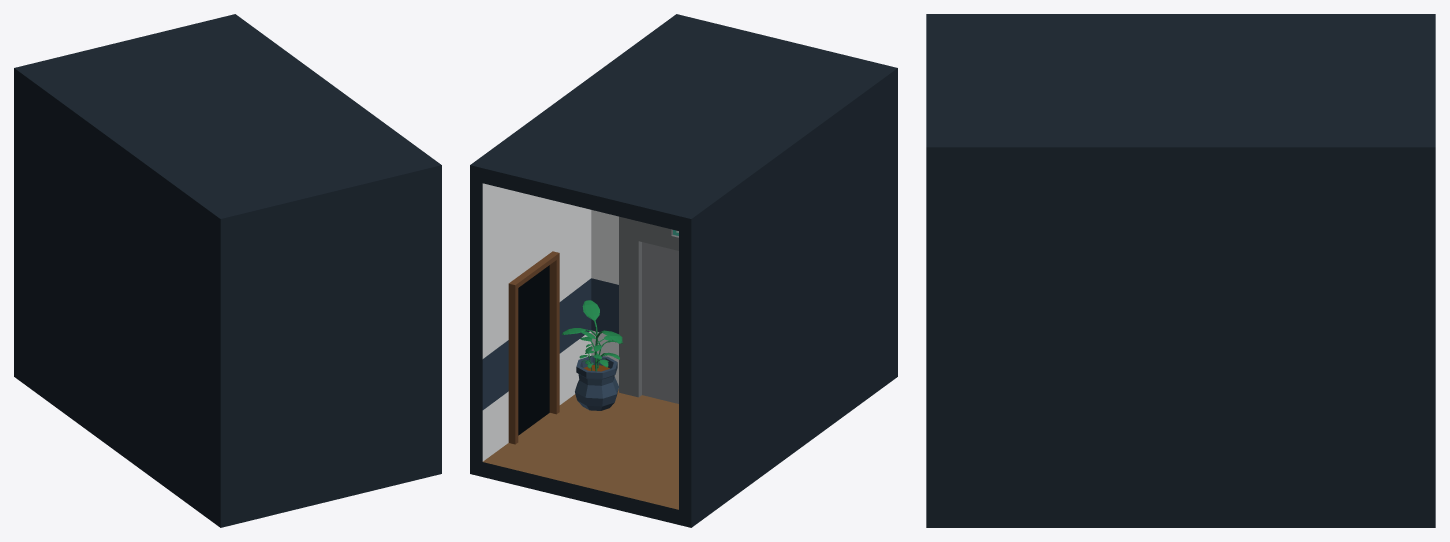
Rendered from Room_Elevator.fbx.
The picture shows the model from 3 angles, left to right: view 1: azimuth 30°, elevation 25°; view 2: azimuth 150°, elevation 25°; view 3: azimuth 270°, elevation 25°; orthographic projection. The views are drawn at different scales.
Visible parts, largest first — view 1: Lift_corridor; view 2: Lift_corridor, Door_R.001; view 3: Lift_corridor.
Part boxes in pixels (x1=…): Lift_corridor: x1=14, y1=14, x2=441, y2=527; Lift_corridor: x1=470, y1=14, x2=897, y2=527; Door_R.001: x1=642, y1=242, x2=678, y2=403; Lift_corridor: x1=926, y1=14, x2=1435, y2=527.
Bounding box in the file's own units: 300 × 400 × 485.
